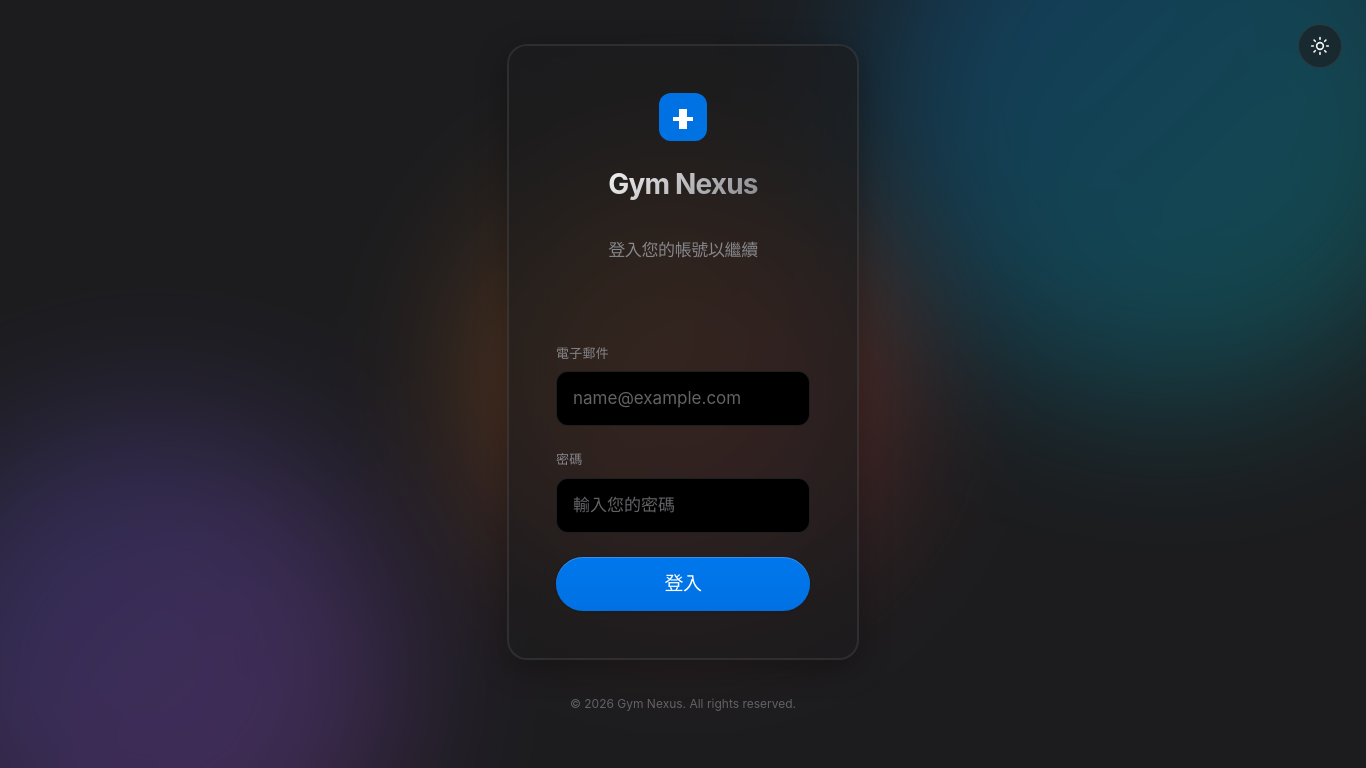
Scenario: Login Page › 登入功能 › 應該在登入失敗時顯示預設錯誤訊息
Type "test@example.com" into the field with id "email" at (683,399), box [556,371,810,426]
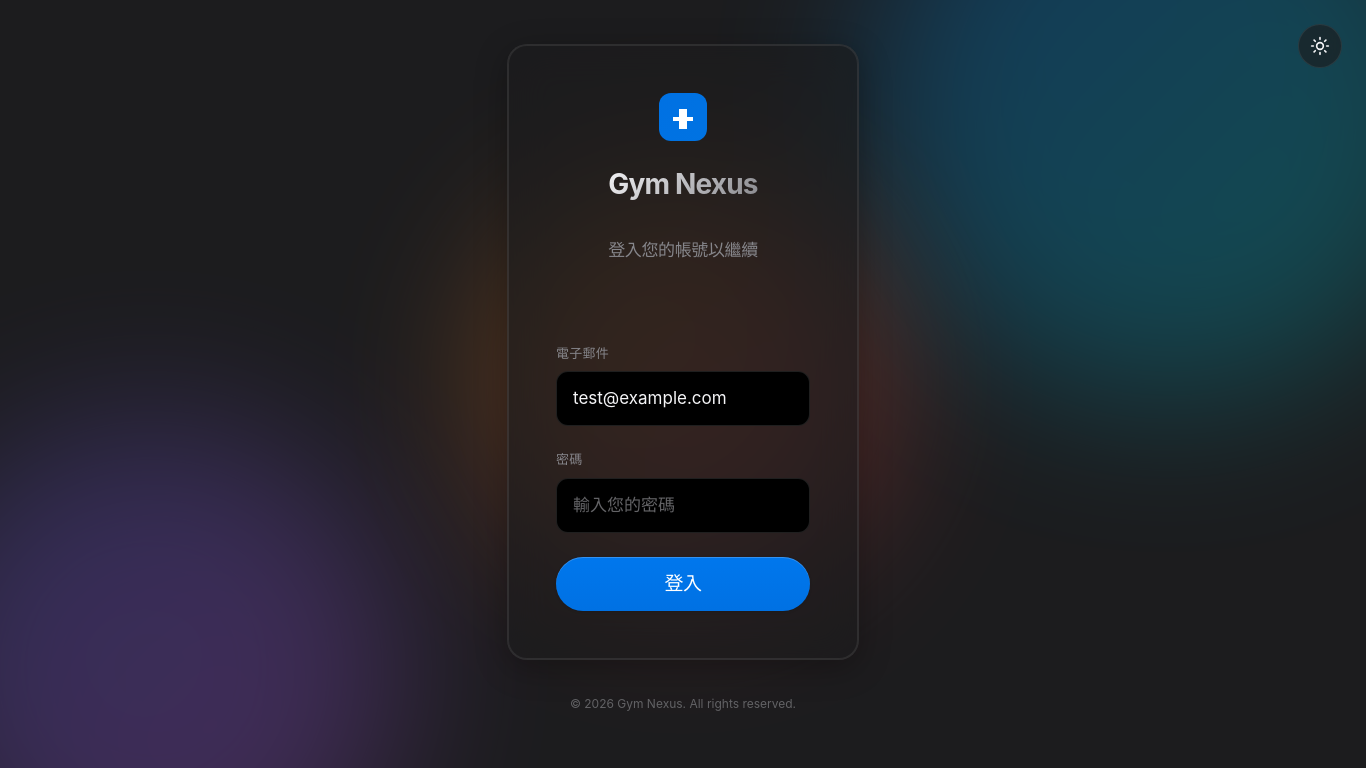
Type "password123" into the password field labelled "密碼" at (683,505), box [556,478,810,532]
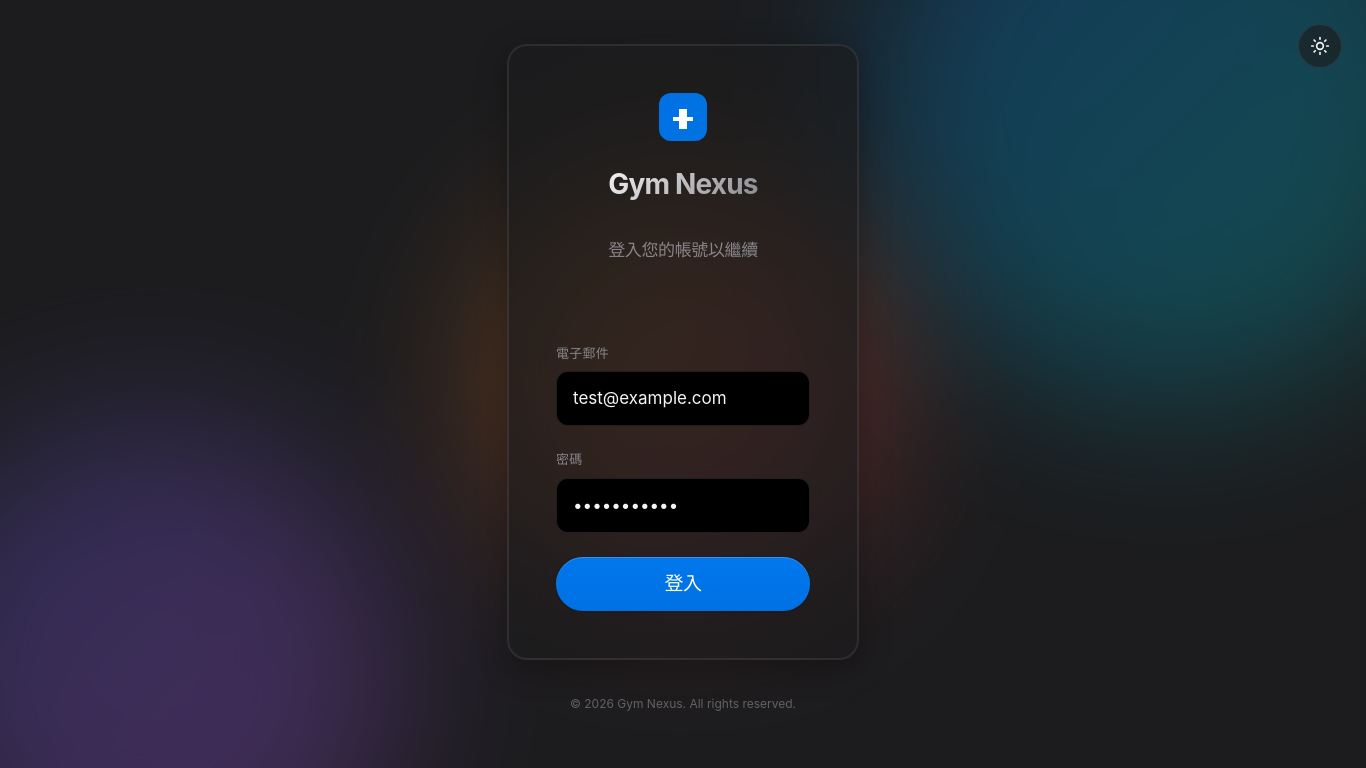
Submit the form, box [556,344,810,611]
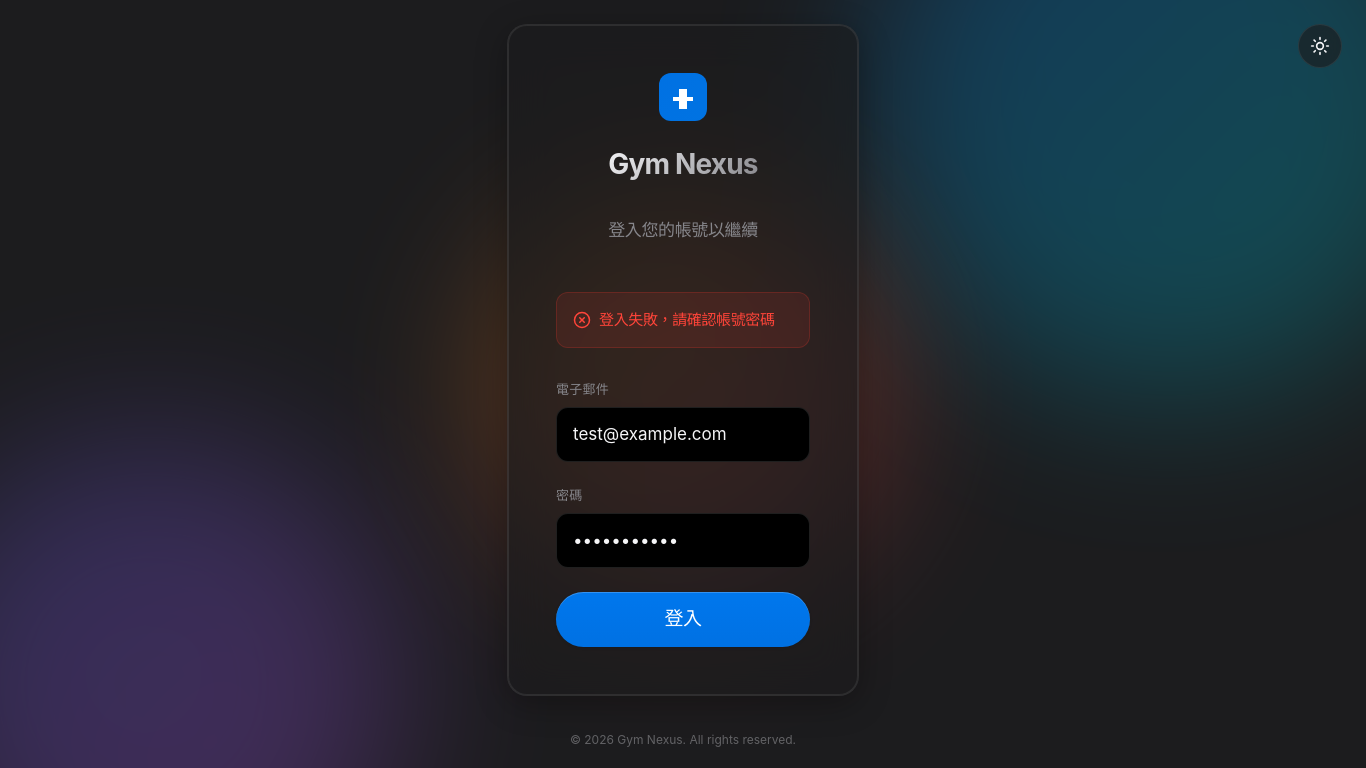
Expected: the element with class "error-banner" reads "登入失敗，請確認帳號密碼", [599,310,774,329]
